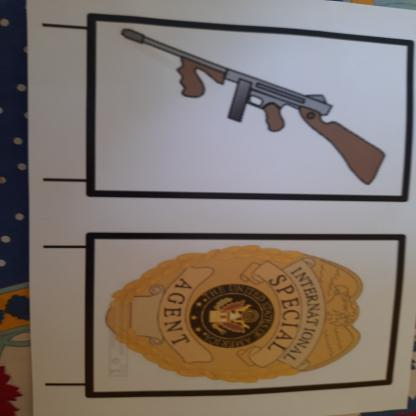Bootlegger: (107, 19, 410, 197)
G-man: (96, 244, 377, 389)
